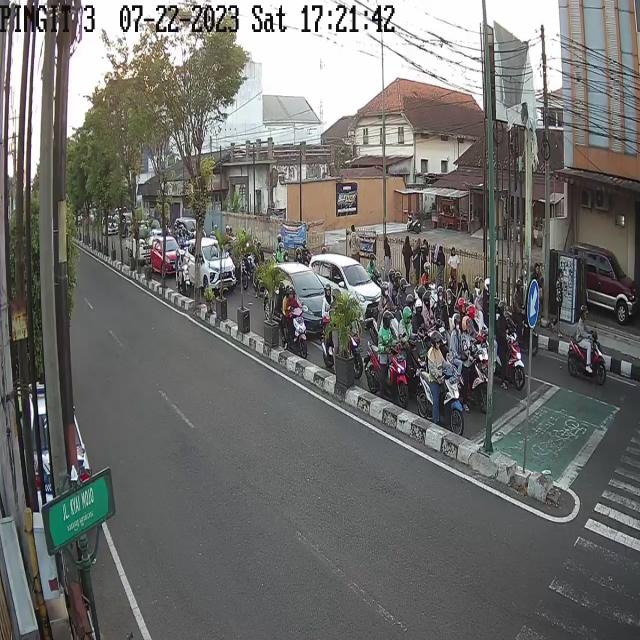car: (574, 244, 639, 325), (308, 256, 384, 314), (184, 238, 236, 294), (151, 234, 178, 273), (101, 215, 119, 238)
motorcycle: (414, 328, 464, 435), (265, 262, 330, 336), (486, 298, 524, 392), (366, 310, 405, 401), (566, 302, 608, 386), (321, 288, 359, 380), (451, 318, 488, 409), (508, 278, 541, 358), (278, 284, 309, 358), (173, 246, 190, 294)
truck: (124, 223, 156, 267)
